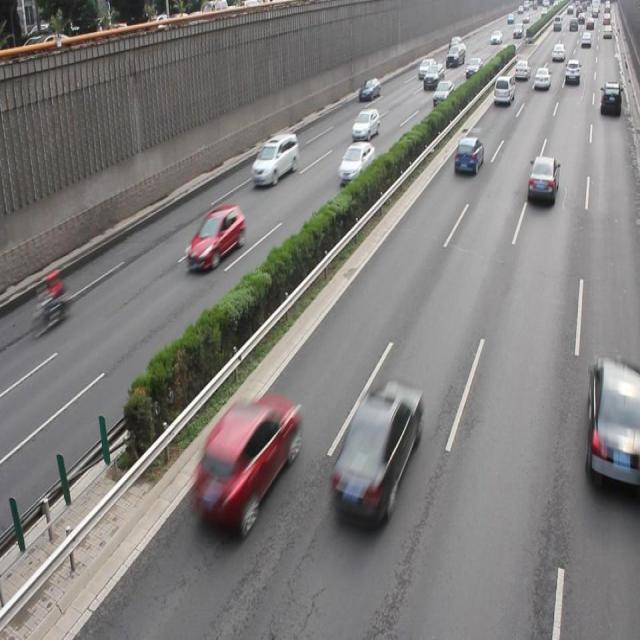car: (191, 395, 299, 533), (330, 381, 422, 524), (586, 358, 640, 494), (185, 202, 245, 271), (250, 131, 298, 185), (337, 140, 374, 182), (526, 156, 557, 204), (453, 135, 483, 174), (351, 108, 380, 140), (599, 81, 620, 118)
